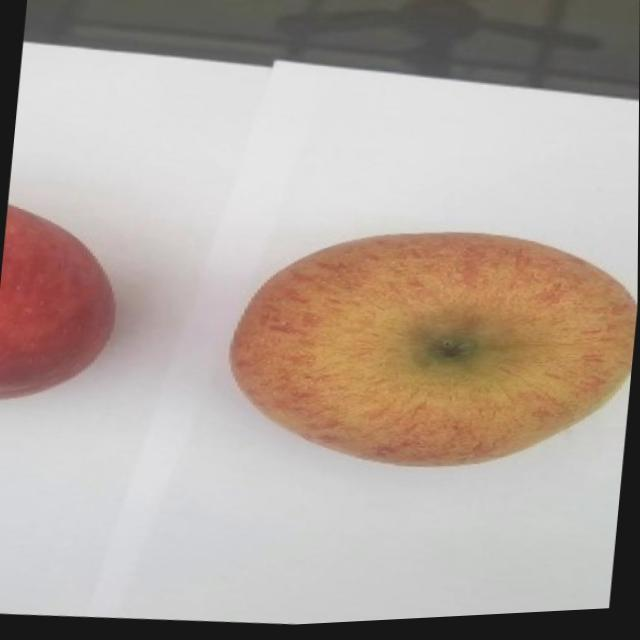Apple: (218, 208, 639, 497), (0, 197, 126, 409)
